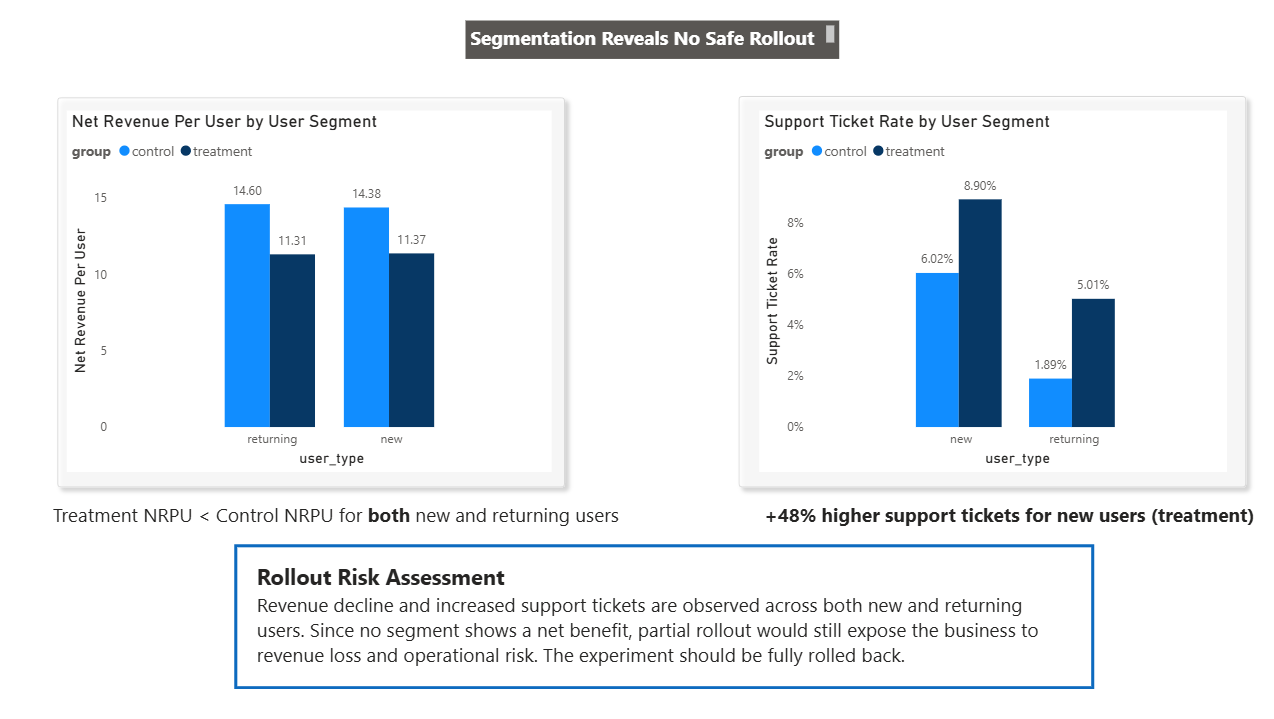

What the dashboard file says about the page in this screenshot:
{"tool":"powerbi","page":{"name":"Segmentation & Risk","canvas":[1280,720],"ordinal":2},"visuals":[{"type":"shape","box":[250.7,539.3,841.3,141.8],"z":0},{"type":"shape","box":[734.9,91.7,514.8,401.1],"z":1000},{"type":"shape","box":[68.5,92.9,514.8,399.9],"z":2000},{"type":"clusteredColumnChart","title":"Net Revenue Per User by User Segment","fields":{"Category":["ab_test_full_project_dataset.user_type"],"Y":["ab_test_full_project_dataset.Net Revenue Per User"],"Series":["ab_test_full_project_dataset.group"]},"box":[86.8,114.9,474.5,353.4],"z":3000},{"type":"textbox","box":[68.5,492.8,585.7,36.7],"z":4000},{"type":"clusteredColumnChart","title":"Support Ticket Rate by User Segment","fields":{"Category":["ab_test_full_project_dataset.user_type"],"Series":["ab_test_full_project_dataset.group"],"Y":["ab_test_full_project_dataset.Support Ticket Rate"]},"box":[764.3,114.9,457.3,353.4],"z":5000},{"type":"textbox","box":[764.3,492.8,506.3,36.7],"z":6000},{"type":"textbox","box":[267.8,551.5,808.3,116.2],"z":7000},{"type":"textbox","box":[476.9,26.9,365.6,37.9],"z":8000}]}

Visuals, with their boxes in screenshot pixels (x1, y1, x2, y2), scaled from the page's 1280x720 canvas onto the 1274x719 screenshot:
shape: detection(250, 539, 1087, 680)
shape: detection(731, 92, 1244, 492)
shape: detection(68, 93, 581, 492)
"Net Revenue Per User by User Segment" clusteredColumnChart: detection(86, 115, 559, 468)
textbox: detection(68, 492, 651, 529)
"Support Ticket Rate by User Segment" clusteredColumnChart: detection(761, 115, 1216, 468)
textbox: detection(761, 492, 1265, 529)
textbox: detection(267, 551, 1071, 667)
textbox: detection(475, 27, 839, 65)
